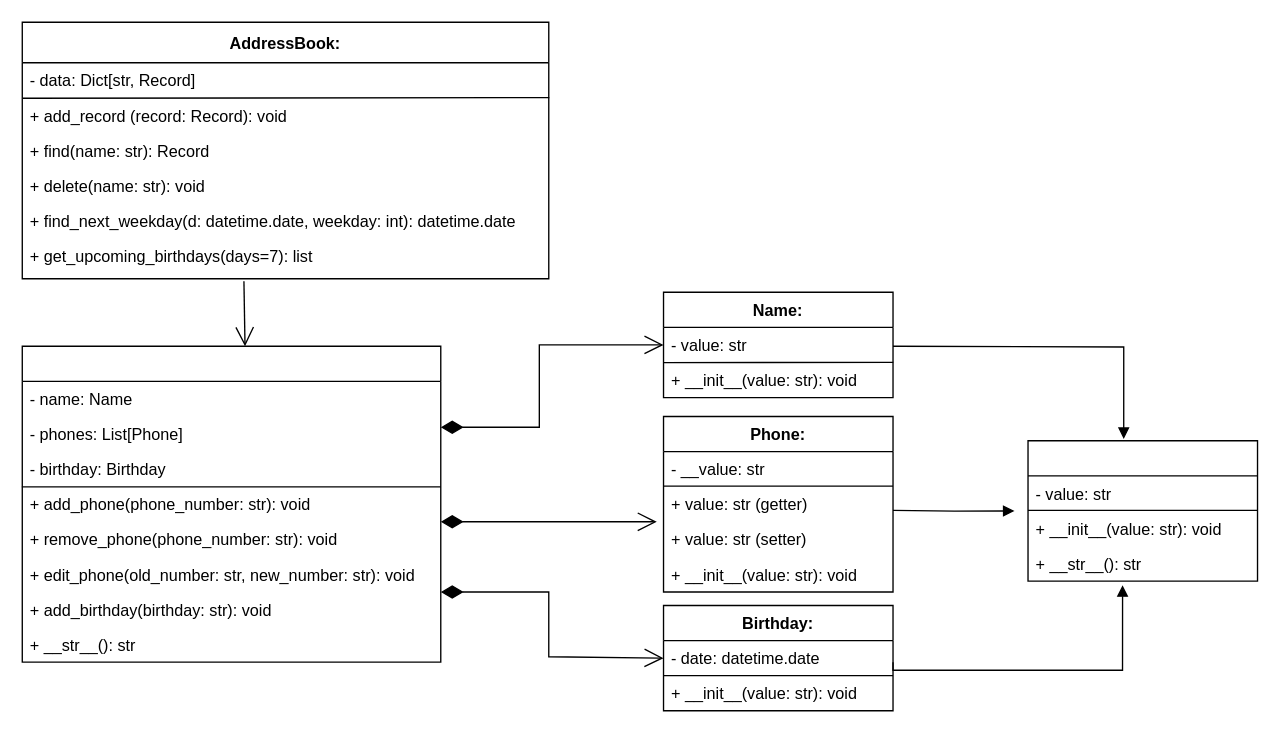
Image size: 1280x733. Some labels were removed from this diagram. Each missing label, with the box of its shape:
Field: (1027, 439, 1258, 581)
Record:: (21, 345, 441, 662)
